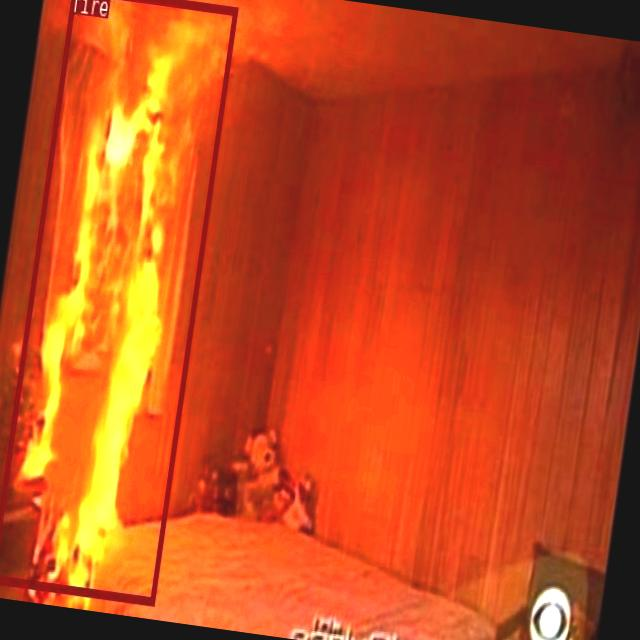fire: (0, 0, 237, 603)
